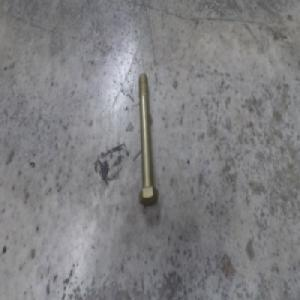Bolt: (136, 72, 157, 205)
